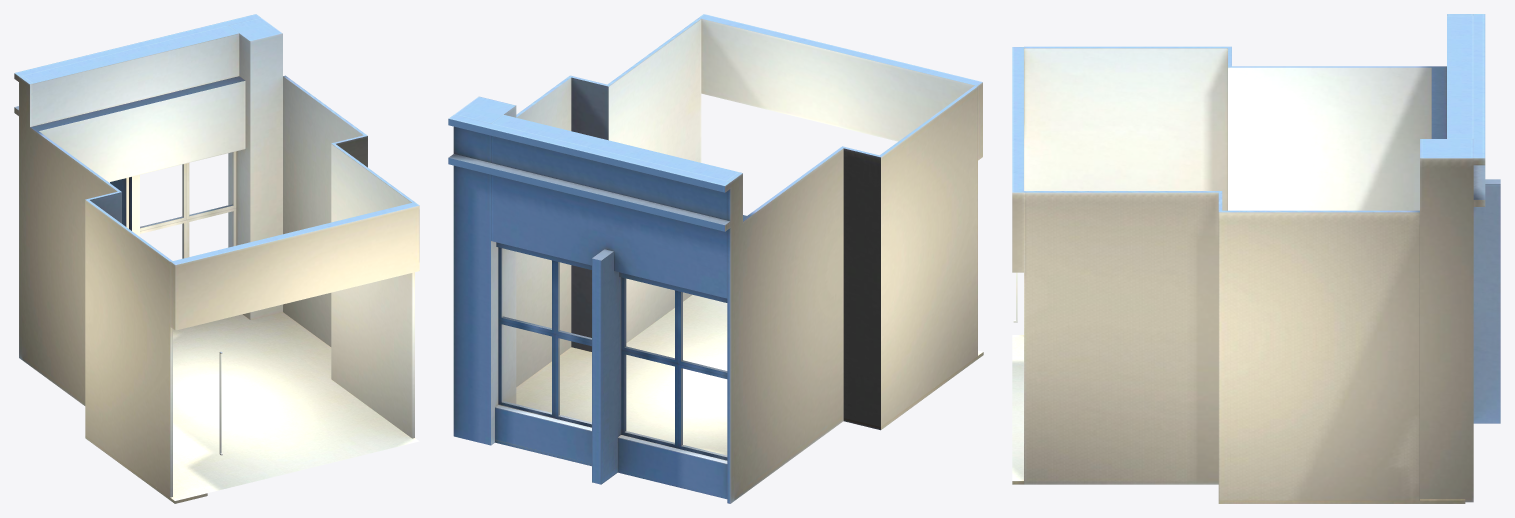
3 views of the same model, side by side, from view 1: azimuth 30°, elevation 25°; view 2: azimuth 150°, elevation 25°; view 3: azimuth 270°, elevation 25° (orthographic). The views are drawn at different scales.
Parts seen in each view (by area): view 1: hc_2floor_room010_0; view 2: hc_2floor_room010_0; view 3: hc_2floor_room010_0.
Boxes of the visible parts, x1=… form: hc_2floor_room010_0: x1=14, y1=14, x2=419, y2=503; hc_2floor_room010_0: x1=448, y1=14, x2=983, y2=503; hc_2floor_room010_0: x1=1012, y1=14, x2=1500, y2=503.
Bounding box in the file's own units: 0.51 × 0.4943 × 0.6361.
1 material, 1 textured.
